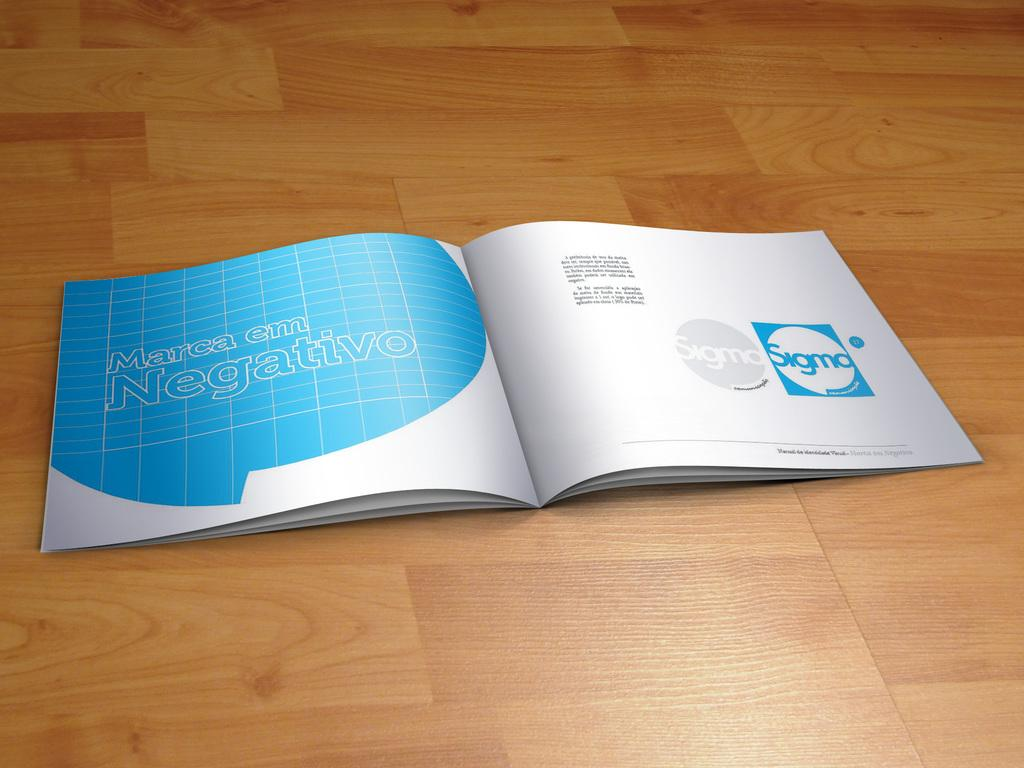book: (36, 225, 985, 556)
